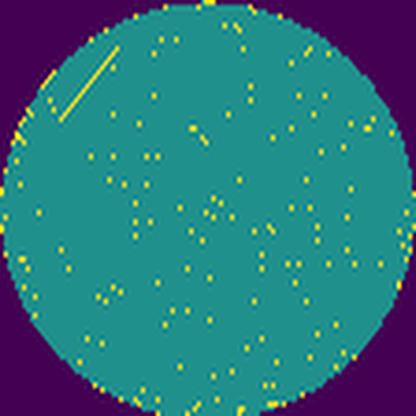Scratch: (54, 41, 123, 128)
